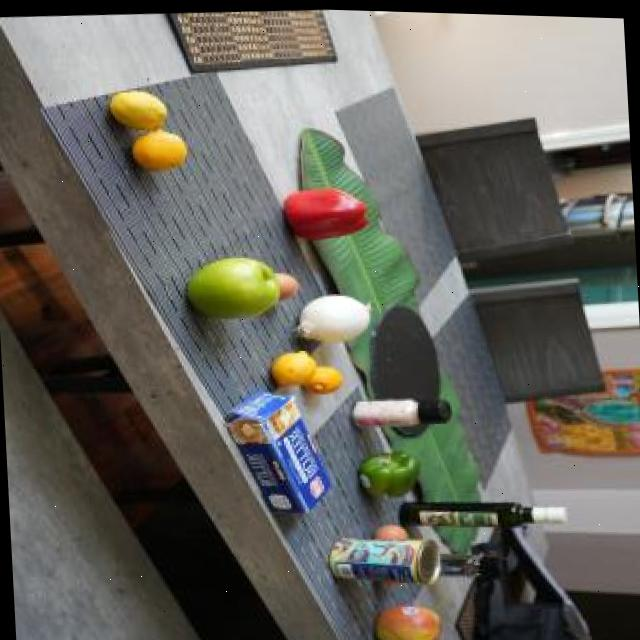Wet: (276, 175, 373, 237), (289, 286, 375, 344), (356, 441, 423, 498), (373, 520, 411, 543), (278, 267, 298, 295)
